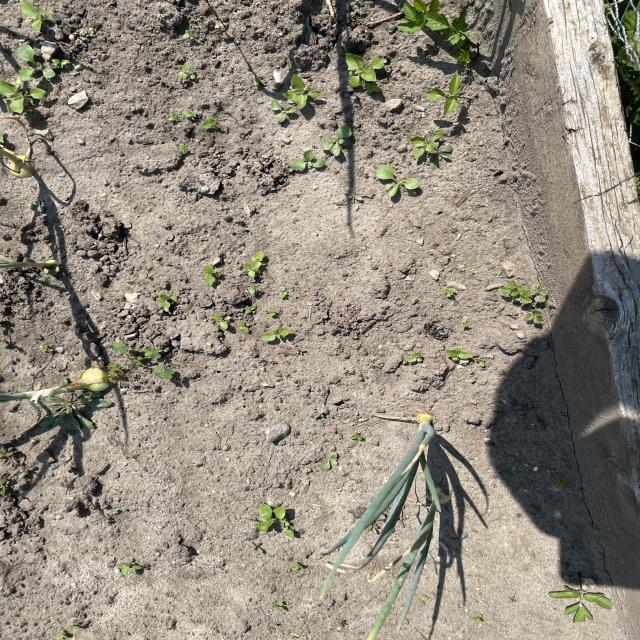Onion: (361, 404, 441, 527), (402, 476, 465, 591), (0, 354, 120, 404)
weed: (0, 5, 74, 112), (182, 251, 267, 343), (493, 277, 578, 345), (397, 1, 487, 59), (289, 122, 358, 174), (428, 68, 476, 127), (269, 73, 323, 125), (342, 48, 390, 94), (241, 502, 294, 542), (379, 159, 414, 198)
